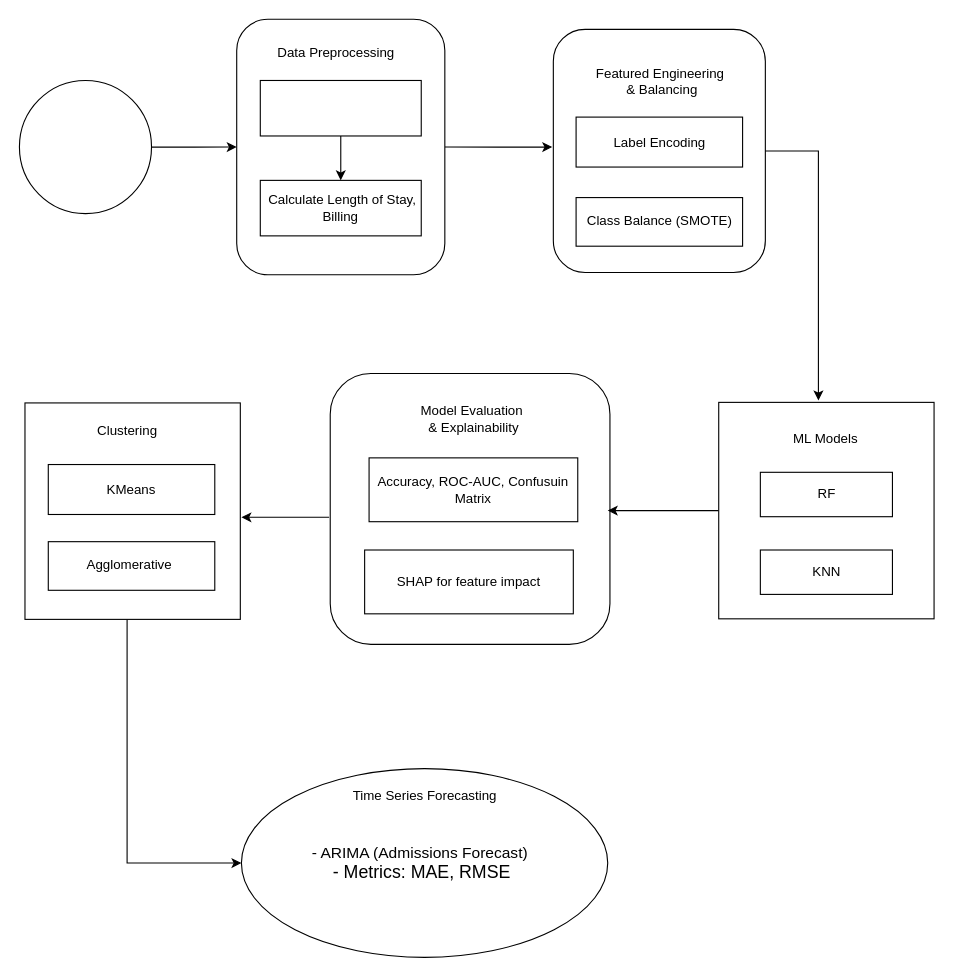
This 953x978 diagram has some shape labels left out. The shapes that lost their labels are listed below. From the top down, each one's centre as x and y in pixels, then its label:
At (x=340, y=107): "Encode categorical features".
At (x=85, y=146): "Healthcare Dataset".
